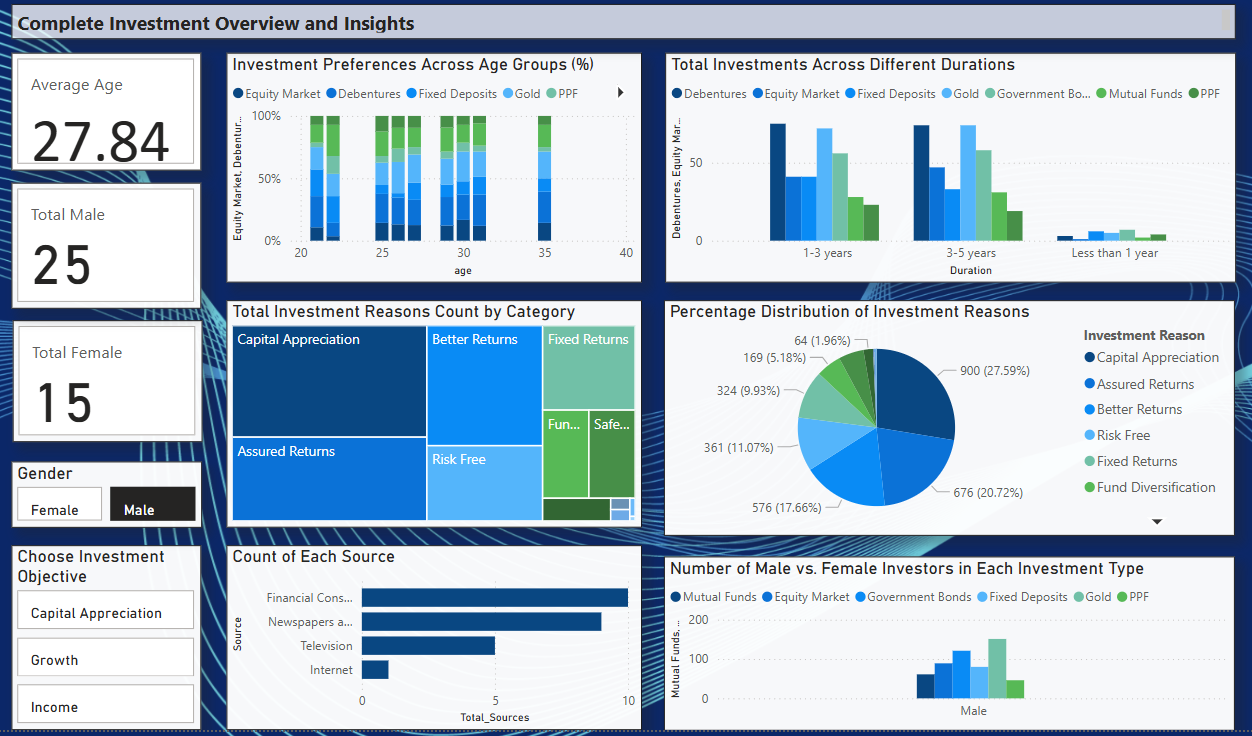

This screenshot's page, from the dashboard's own definition file:
{"tool":"powerbi","page":{"name":"Task 7","canvas":[1280,720],"ordinal":6},"visuals":[{"type":"cardVisual","fields":{"Data":["Data_set 2.Average Age"]},"box":[37,57.6,185.2,115.3],"z":0},{"type":"hundredPercentStackedColumnChart","title":"Investment Preferences Across Age Groups (%)","fields":{"Category":["Data_set 2.age"],"Y":["Sum(Data_set 2.Equity_Market)","Sum(Data_set 2.Debentures)","Sum(Data_set 2.Fixed_Deposits)","Sum(Data_set 2.Gold)","Sum(Data_set 2.PPF)","Sum(Data_set 2.Government_Bonds)","Sum(Data_set 2.Mutual_Funds)"]},"box":[247,57.6,406.2,225],"z":1000},{"type":"cardVisual","fields":{"Data":["Data_set 2.Total Female"]},"box":[38.4,319.7,185.2,119.4],"z":2000},{"type":"cardVisual","fields":{"Data":["Data_set 2.Total Male"]},"box":[37,185.2,185.2,123.5],"z":3000},{"type":"clusteredColumnChart","title":"Number of Male vs. Female Investors in Each Investment Type","fields":{"Category":["Data_set 2.gender"],"Y":["Sum(Data_set 2.Mutual_Funds)","Sum(Data_set 2.Equity_Market)","Sum(Data_set 2.Government_Bonds)","Sum(Data_set 2.Fixed_Deposits)","Sum(Data_set 2.Gold)","Sum(Data_set 2.PPF)"]},"box":[675.1,550.3,558.5,170.2],"z":4000},{"type":"advancedSlicerVisual","title":"Choose Investment Objective","fields":{"Values":["Data_set 2.Objective"]},"box":[37,539.3,185.2,181.1],"z":5000},{"type":"clusteredColumnChart","title":"Total Investments Across Different Durations","fields":{"Category":["Data_set 2.Duration"],"Y":["Sum(Data_set 2.Debentures)","Sum(Data_set 2.Equity_Market)","Sum(Data_set 2.Fixed_Deposits)","Sum(Data_set 2.Gold)","Sum(Data_set 2.Government_Bonds)","Sum(Data_set 2.Mutual_Funds)","Sum(Data_set 2.PPF)"]},"box":[676.5,57.6,558.5,225],"z":6000},{"type":"treemap","title":"Total Investment Reasons Count by Category","fields":{"Group":["Investment_Reason_Count.Investment Reason"],"Values":["Data_set 2.Total_Reasons_Count"]},"box":[247,299.1,406.2,222.3],"z":7000},{"type":"barChart","title":"Count of Each Source","fields":{"Category":["Data_set 2.Source"],"Y":["Data_set 2.Total_Sources"]},"box":[247,539.3,406.2,181.1],"z":8000},{"type":"advancedSlicerVisual","fields":{"Values":["Data_set 2.gender"]},"box":[37,456.9,186.6,64.5],"z":9000},{"type":"pieChart","title":"Percentage Distribution of Investment Reasons","fields":{"Category":["Investment_Reason_Count.Investment Reason"],"Y":["Data_set 2.Total_Investment_Reasons"]},"box":[675.1,299.1,558.5,230.5],"z":10000},{"type":"textbox","box":[37,9.6,1197.9,34.3],"z":11000}]}

Visuals, with their boxes in screenshot pixels (x1, y1, x2, y2):
cardVisual - Data_set 2.Average Age: select_region(3, 50, 195, 169)
"Investment Preferences Across Age Groups (%)" hundredPercentStackedColumnChart: select_region(220, 50, 641, 283)
cardVisual - Data_set 2.Total Female: select_region(4, 322, 196, 445)
cardVisual - Data_set 2.Total Male: select_region(3, 182, 195, 310)
"Number of Male vs. Female Investors in Each Investment Type" clusteredColumnChart: select_region(664, 561, 1243, 735)
"Choose Investment Objective" advancedSlicerVisual: select_region(3, 549, 195, 735)
"Total Investments Across Different Durations" clusteredColumnChart: select_region(666, 50, 1245, 283)
"Total Investment Reasons Count by Category" treemap: select_region(220, 300, 641, 531)
"Count of Each Source" barChart: select_region(220, 549, 641, 735)
advancedSlicerVisual - Data_set 2.gender: select_region(3, 464, 196, 531)
"Percentage Distribution of Investment Reasons" pieChart: select_region(664, 300, 1243, 539)
textbox: select_region(3, 0, 1244, 36)
